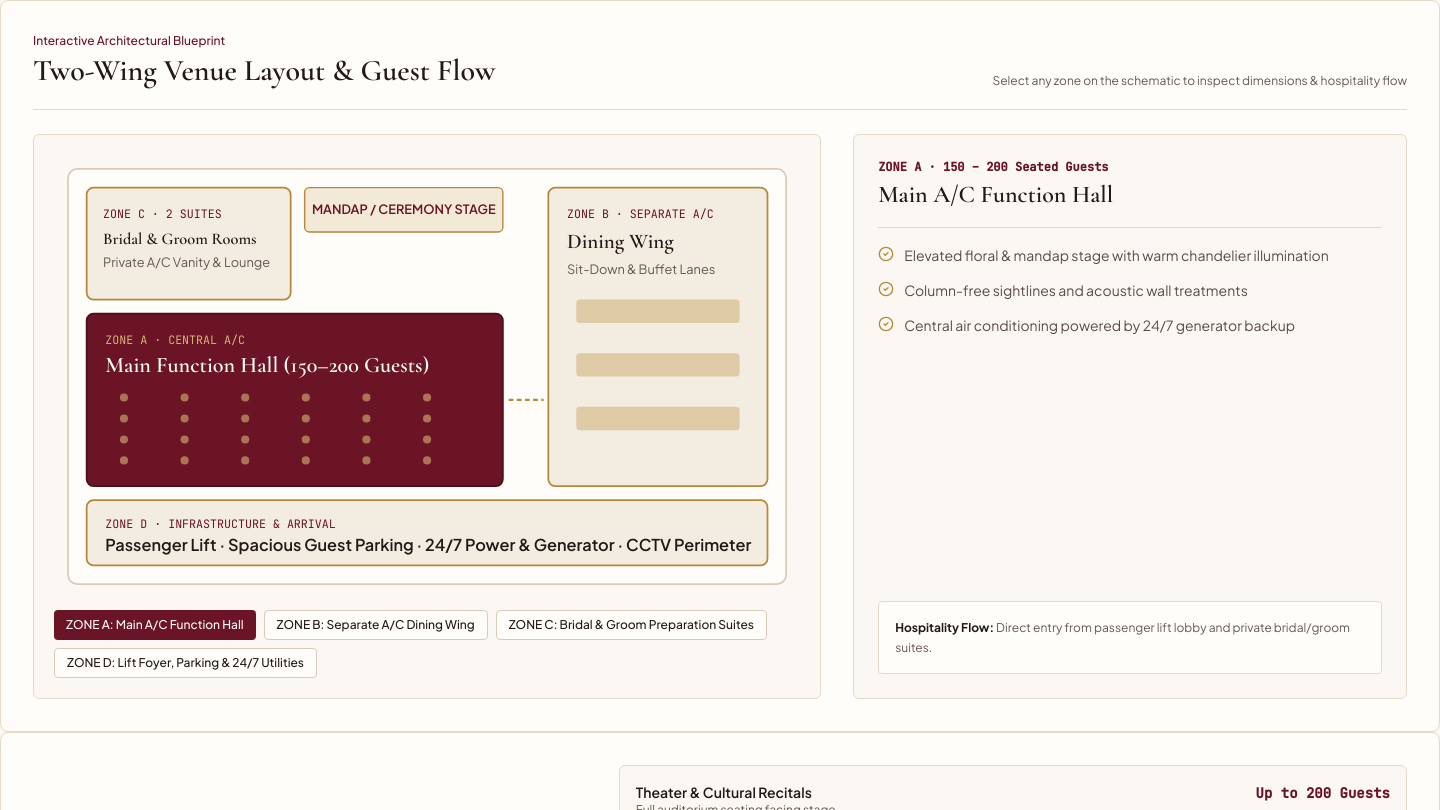
Test: Frontend Pages & Components › VenueFloorInfographic switches zones interactively and SeatingCapacityInfographic renders
Expected: the heading "Two-Wing Venue Layout & Guest Flow" is shown, top-left (33, 53), bottom-right (495, 89)
Click the button "ZONE B: Separate A/C Dining Wing" at (376, 625), box top-left (264, 610), bottom-right (488, 640)
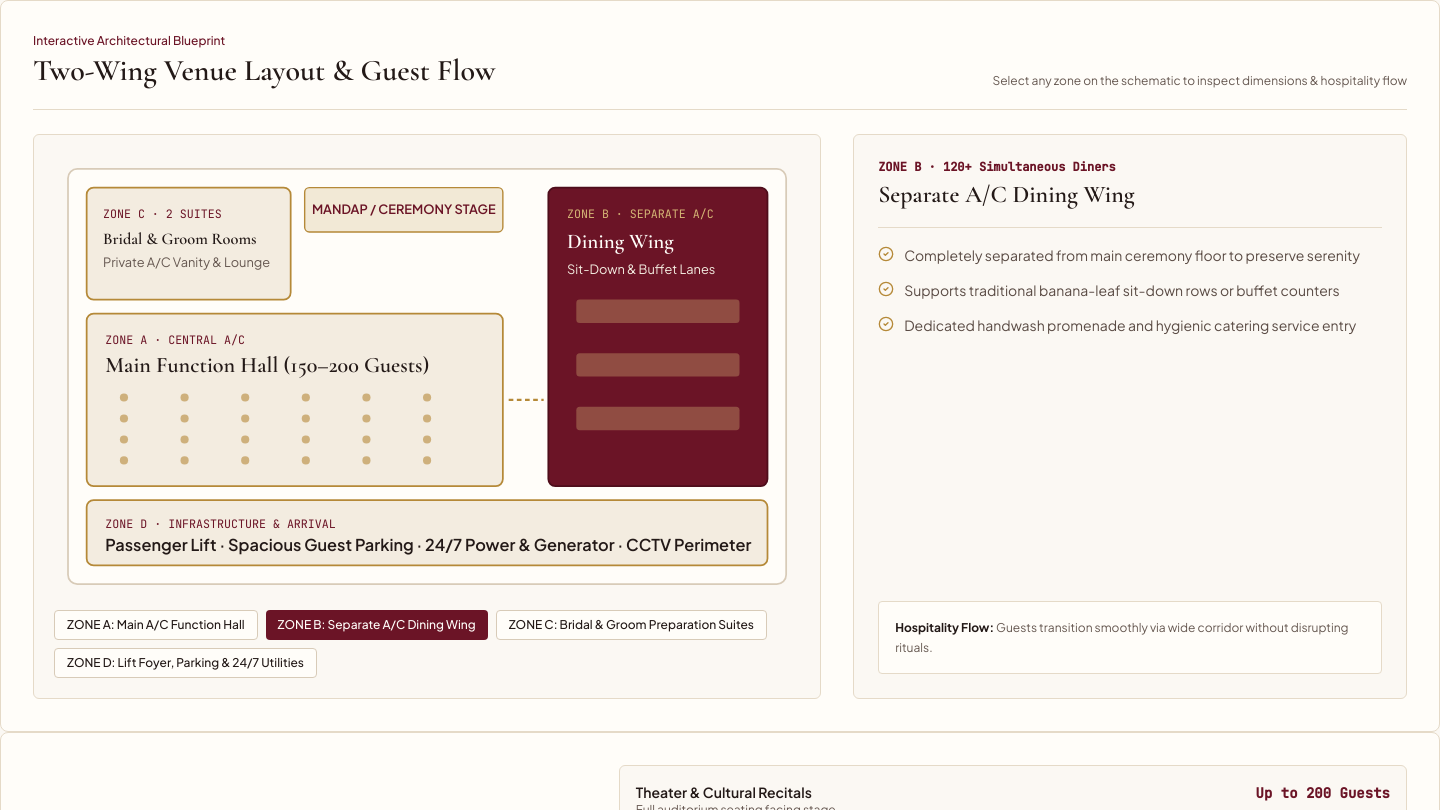
Expected: the text "Theater & Cultural Recitals" is shown, top-left (636, 782), bottom-right (836, 802)
Expected: the text "ZONE B · 120+ Simultaneous Diners" is shown, top-left (878, 159), bottom-right (1116, 175)
